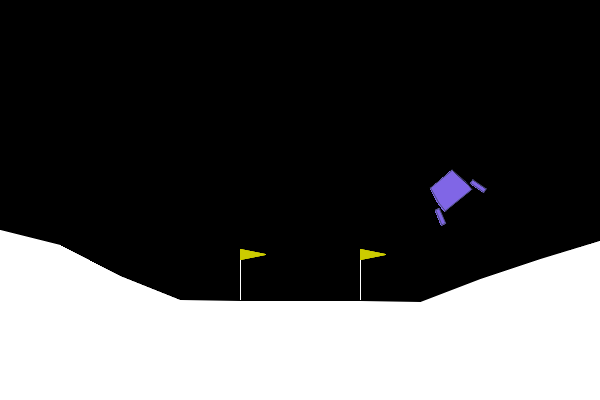lander: (416, 159, 488, 228)
